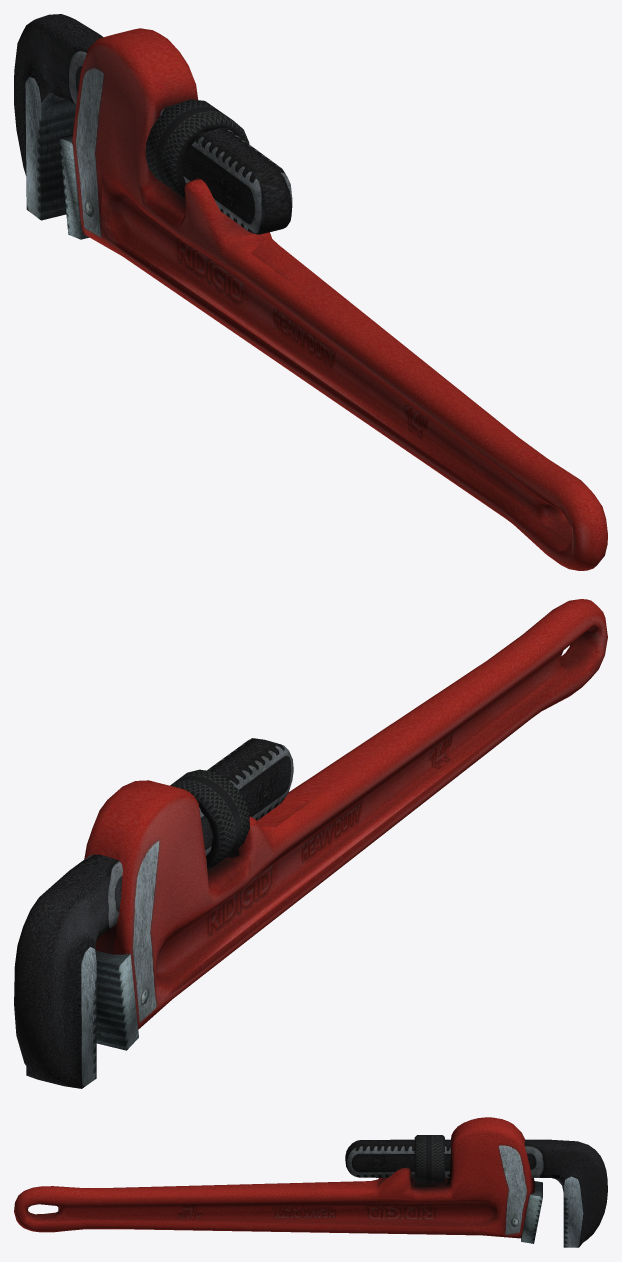
The model's file is wrench.fbx.
3 views of the same model, one above another, from view 1: azimuth 30°, elevation 25°; view 2: azimuth 150°, elevation 25°; view 3: azimuth 270°, elevation 25° (orthographic). The views are drawn at different scales.
Visible parts, largest first — view 1: Wrench; view 2: Wrench; view 3: Wrench.
Part boxes in pixels (box(x1,y1,x2,y2)): Wrench: box(14, 14, 607, 570); Wrench: box(14, 599, 607, 1088); Wrench: box(14, 1117, 607, 1247).
Size of the model in its own units: 0.1202 by 0.3311 by 1.5.
